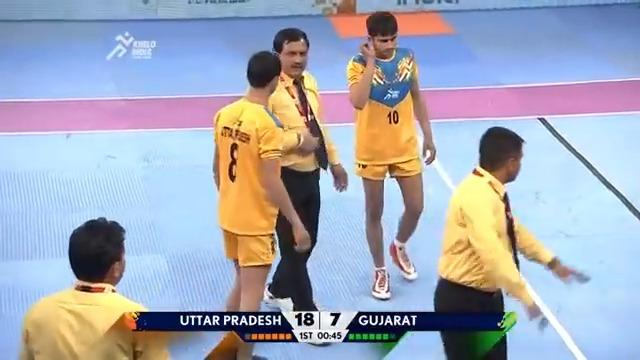Player: (203, 49, 312, 359), (346, 10, 436, 299), (18, 216, 171, 359)
referee: (432, 125, 589, 359), (263, 27, 348, 346)
